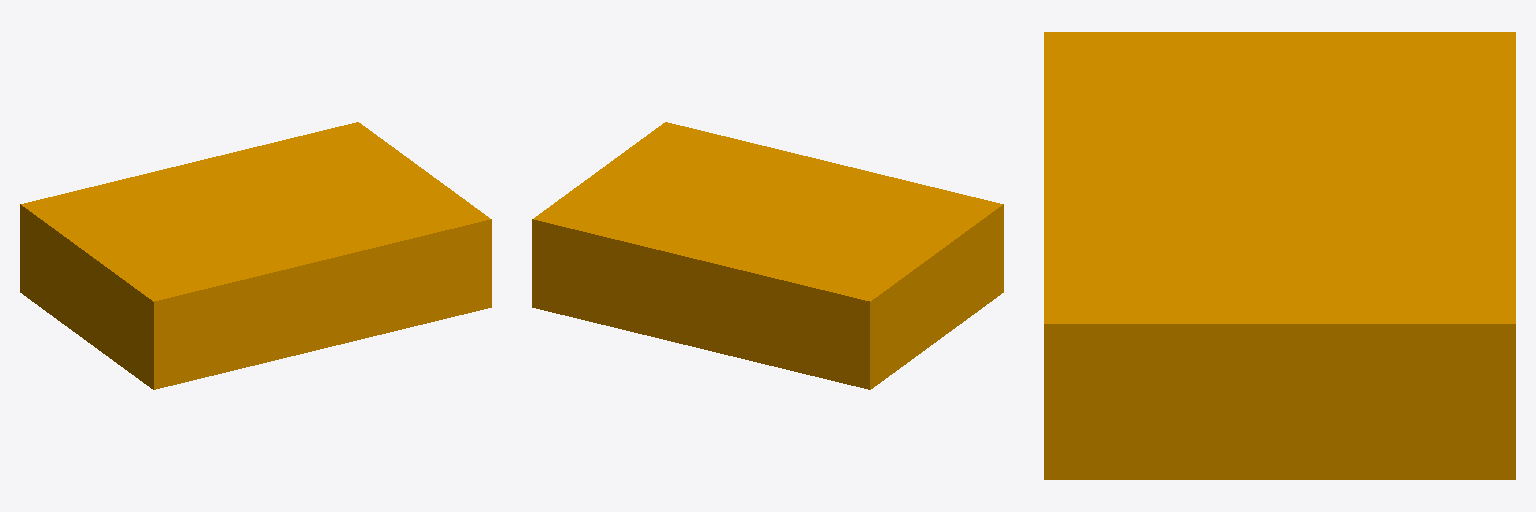
robot.urdf — 2x2:
<?xml version='1.0' encoding='UTF-8'?>
<robot name="2x2">
  <link name="base_link">
    <inertial>
      <origin xyz="0.0 0.0 0.0" rpy="0.0 0.0 0.0"/>
      <mass value="0.01"/>
      <inertia ixx="0.1" ixy="0.0" ixz="0.0" iyy="0.1" iyz="0.0" izz="0.1"/>
    </inertial>
    <visual>
      <geometry>
        <box size="0.044 0.03  0.011"/>
      </geometry>
      <material name=""/>
      <origin xyz="0.0 0.0 0.0" rpy="0.0 0.0 0.0"/>
    </visual>
    <collision>
      <geometry>
        <box size="0.044 0.03  0.011"/>
      </geometry>
      <origin xyz="0.0 0.0 0.0" rpy="0.0 0.0 0.0"/>
    </collision>
  </link>
  <material name="">
    <color rgba="0.374 0.01  0.279 1.   "/>
  </material>
  <contact>
    <lateral_friction value="1.0"/>
    <rolling_friction value="0.0"/>
    <contact_cfm value="0.0"/>
    <contact_erp value="1.0"/>
  </contact>
</robot>

--- Render facts (derived) ---
The picture shows the robot from 3 angles, left to right: view 1: azimuth 30°, elevation 25°; view 2: azimuth 150°, elevation 25°; view 3: azimuth 270°, elevation 25°; orthographic projection.
Robot: 2x2 — 1 links, 0 joints (none); root link base_link; default pose: every joint at zero.
Links seen in each view (by area): view 1: base_link; view 2: base_link; view 3: base_link.
Link boxes in pixels (box(x1,y1,x2,y2)): base_link: box(20, 122, 491, 389); base_link: box(532, 122, 1003, 389); base_link: box(1044, 32, 1515, 479).
Size in the robot's own frame: 0.044 by 0.03 by 0.011 metres.
Geometry: primitives only (box / cylinder / sphere), no mesh files.